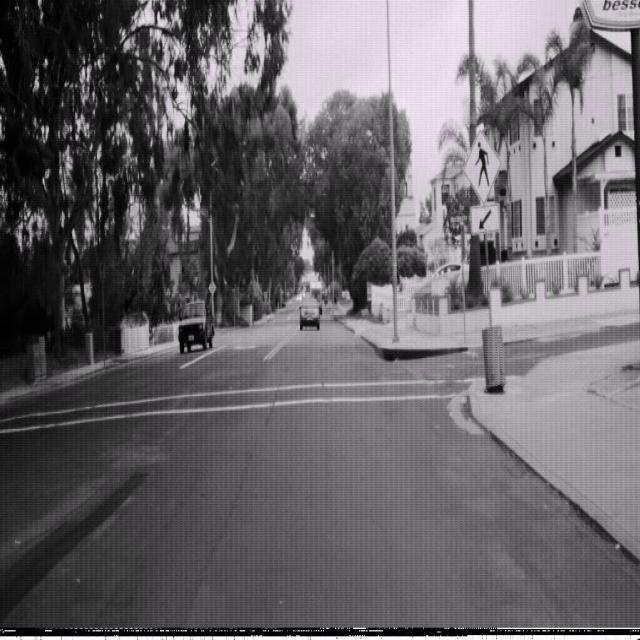pedestrianCrossing: (462, 128, 502, 205)
